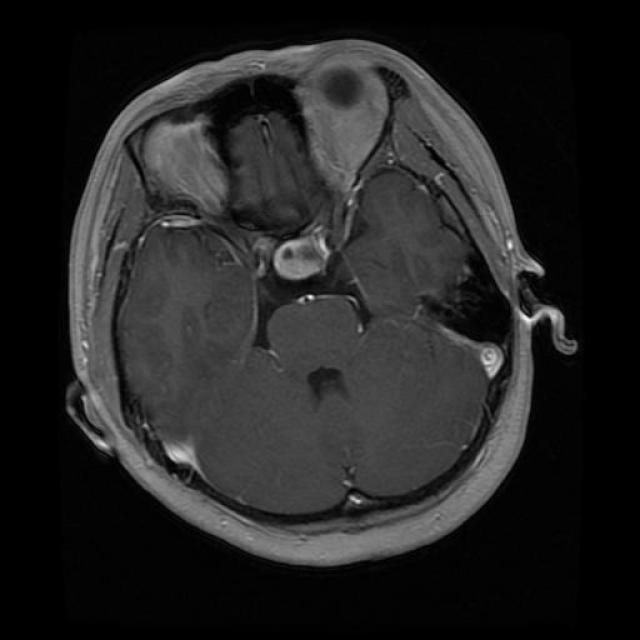Brain-Tumor: (421, 227, 532, 390)
eye: (286, 40, 398, 232), (128, 102, 250, 263)
